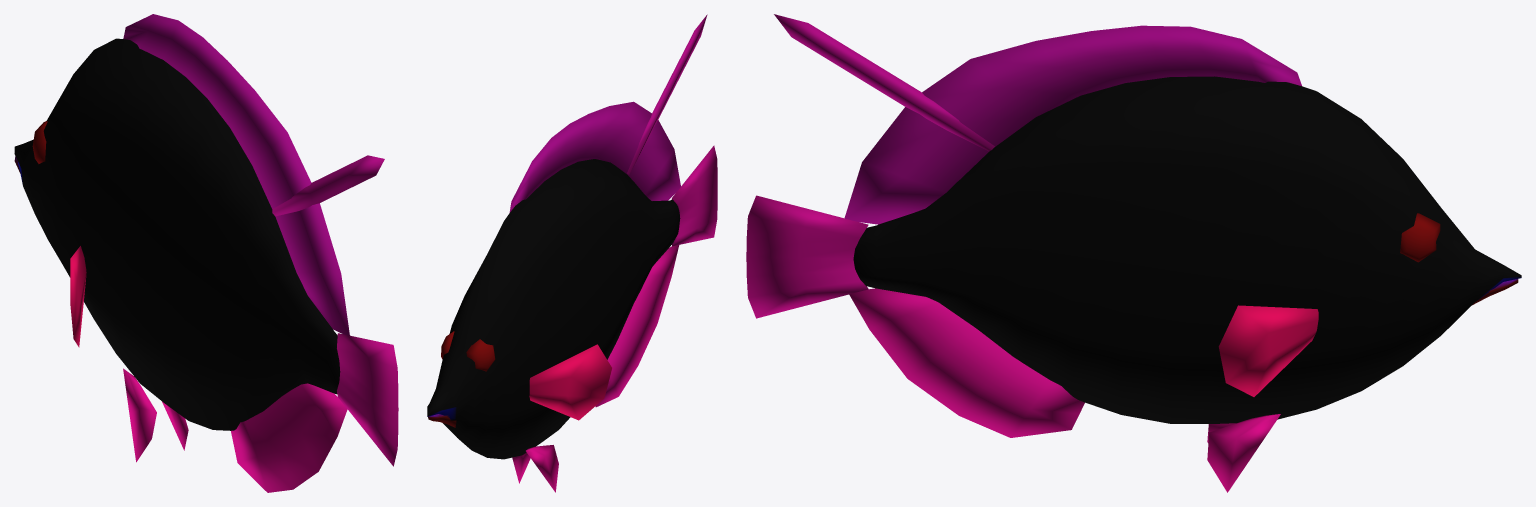
The model's file is butterflyfish_threadfin_lo.glb.
The picture shows the model from 3 angles, left to right: view 1: azimuth 30°, elevation 25°; view 2: azimuth 150°, elevation 25°; view 3: azimuth 270°, elevation 25°; orthographic projection. The views are drawn at different scales.
Parts seen in each view (by area): view 1: butterflyfish_threadfin_lo; view 2: butterflyfish_threadfin_lo; view 3: butterflyfish_threadfin_lo.
Part boxes in pixels (left/top/right/bottom): butterflyfish_threadfin_lo: left=14, top=14, right=398, bottom=492; butterflyfish_threadfin_lo: left=427, top=14, right=717, bottom=492; butterflyfish_threadfin_lo: left=746, top=14, right=1521, bottom=492.
Bounding box in the file's own units: 0.0511 × 0.1197 × 0.18.
